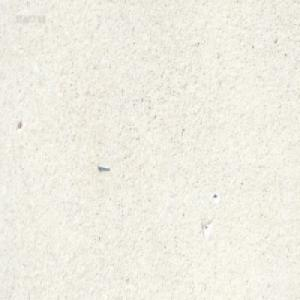Nail: (96, 161, 109, 170)
